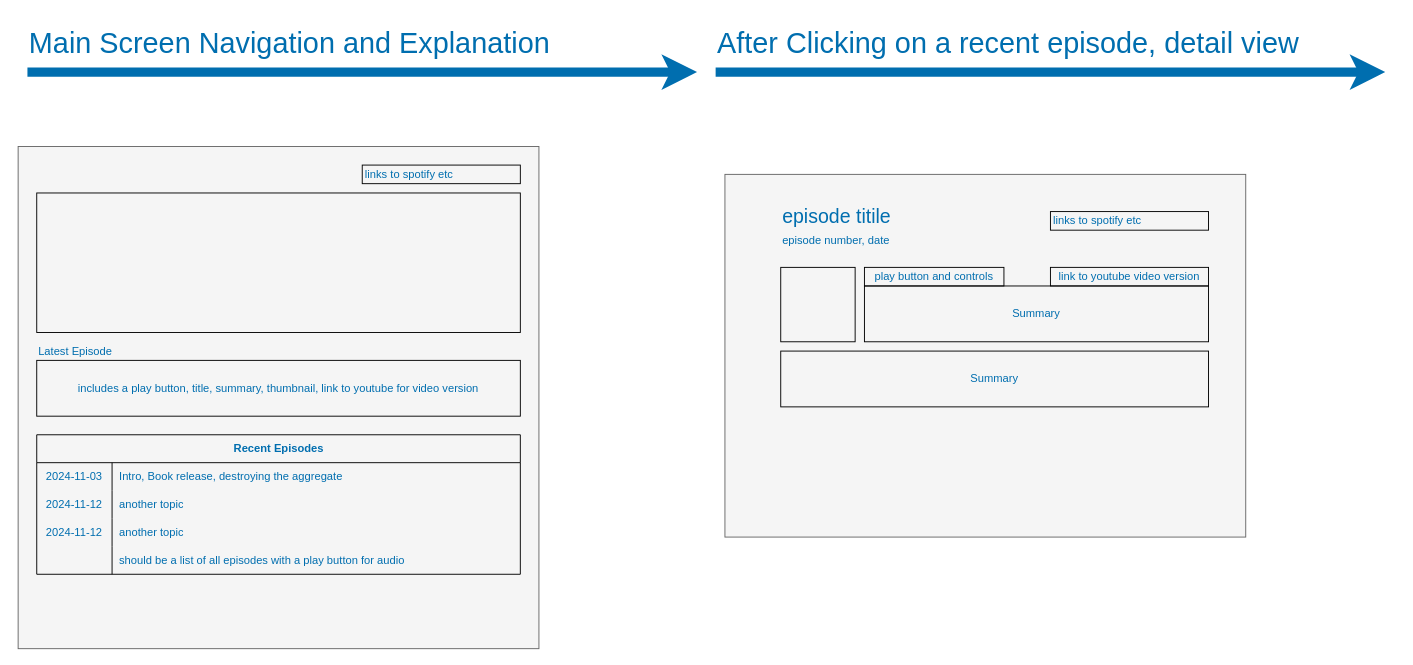
Image size: 1413x665. Some labels were removed from this diagram. The centre of each missing label's shape, as x and y in pixels:
hero image featuring microphone: (278,262)
thumbnail: (817,304)
